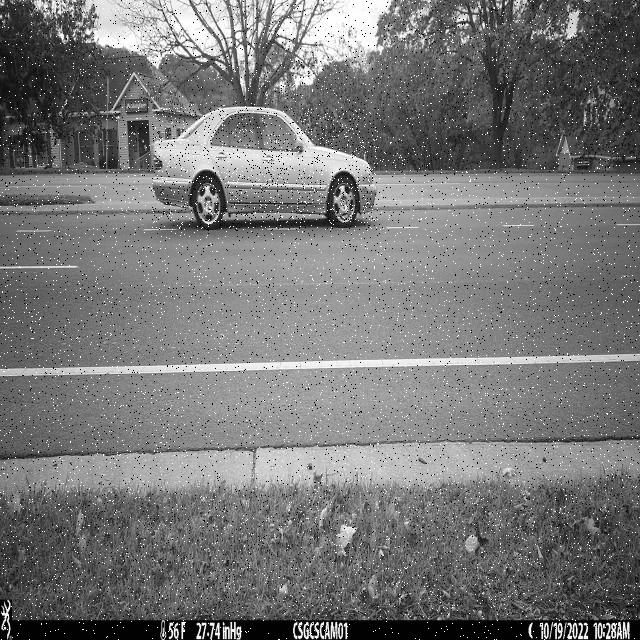Tractor Trailer: (152, 108, 378, 230)
